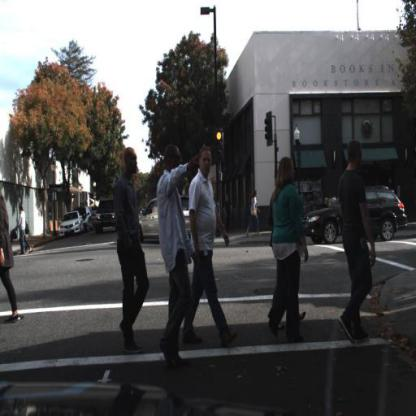car: (302, 187, 409, 246), (127, 191, 211, 242), (57, 208, 85, 243), (94, 198, 119, 235), (59, 210, 83, 239), (96, 200, 116, 234), (80, 203, 93, 233)
pedestrian: (190, 144, 245, 347), (337, 137, 377, 344), (157, 142, 189, 368), (189, 150, 220, 349), (272, 157, 305, 342), (118, 146, 142, 357), (1, 178, 25, 326), (10, 204, 31, 259), (17, 202, 33, 257), (25, 213, 33, 254)
trafficLight-Red: (214, 128, 226, 162)
